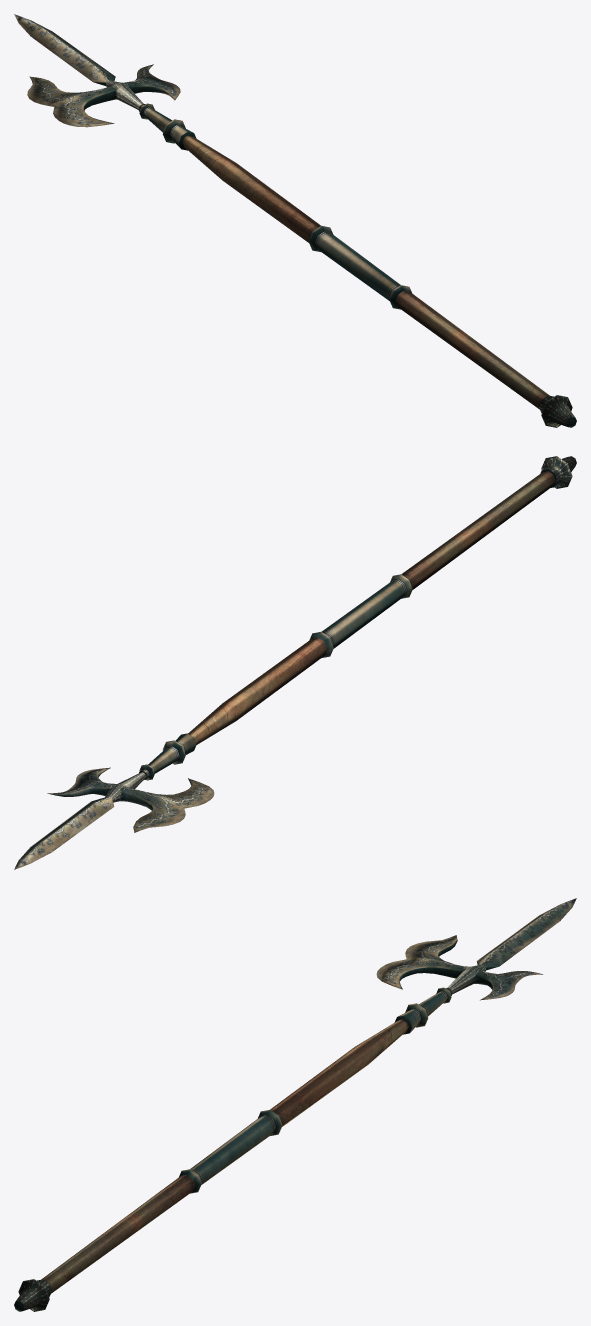
File: Halberd_C.FBX
3 renders of one model, top to bottom at view 1: azimuth 30°, elevation 25°; view 2: azimuth 150°, elevation 25°; view 3: azimuth 330°, elevation 25°, orthographic.
Visible parts, largest first — view 1: Halberd_C; view 2: Halberd_C; view 3: Halberd_C.
Boxes of the visible parts, x1=… form: Halberd_C: x1=14, y1=14, x2=576, y2=427; Halberd_C: x1=14, y1=456, x2=576, y2=869; Halberd_C: x1=14, y1=898, x2=576, y2=1311.
Bounding box in the file's own units: 33.47 × 8.13 × 250.
